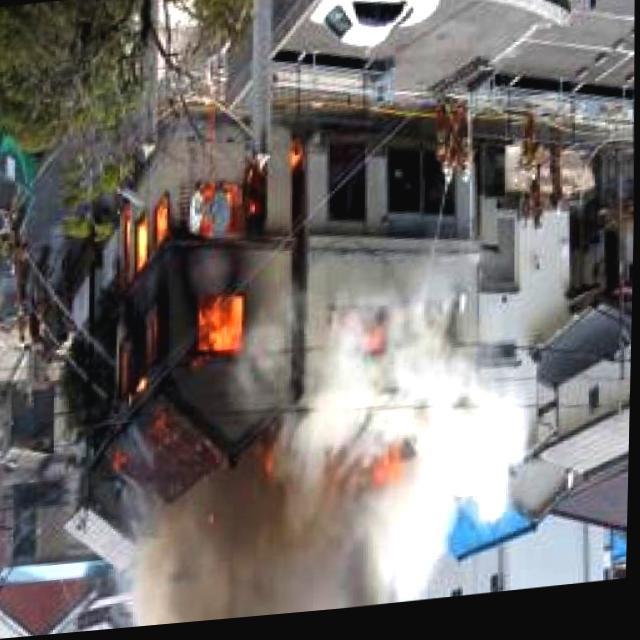helmet: (107, 131, 305, 433)
no_helmet: (126, 418, 539, 630), (302, 281, 528, 431)
